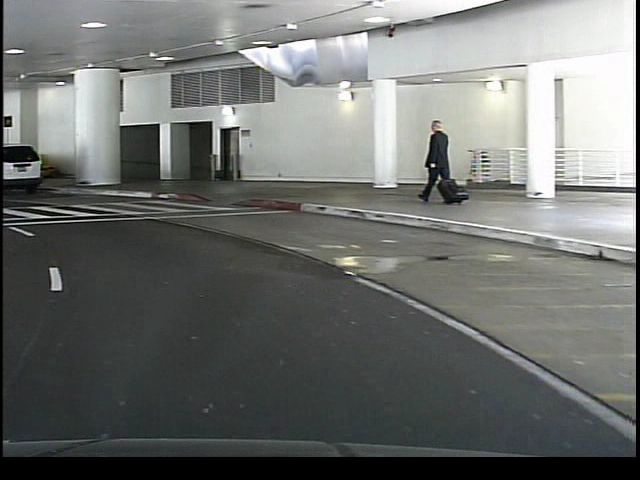person: (415, 117, 453, 207)
